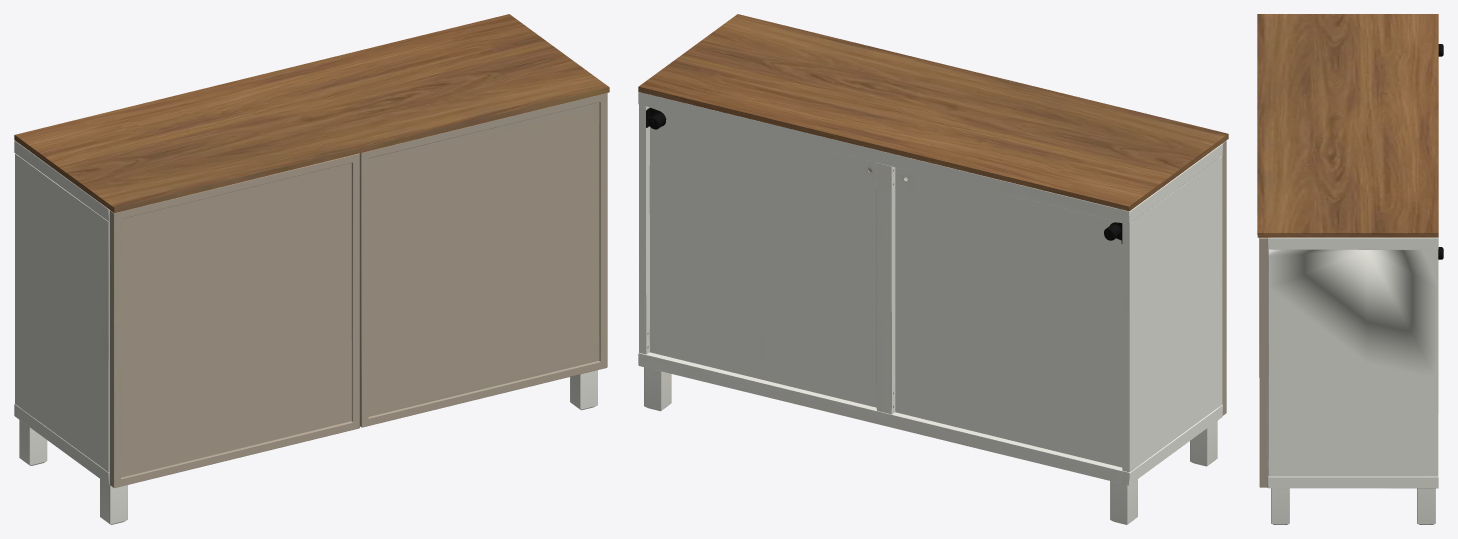
Rendered from 23 - BESTÅ Storage combination with doors - whiteKrukmakare beige 120x42x75 cm.glb.
3 views of the same model, side by side, from view 1: azimuth 30°, elevation 25°; view 2: azimuth 150°, elevation 25°; view 3: azimuth 270°, elevation 25° (orthographic). The views are drawn at different scales.
Visible parts, largest first — view 1: 89598067_storage_combination_with_doors.004, 89598067_storage_combination_with_doors.003, 89598067_storage_combination_with_doors.001, 89598067_storage_combination_with_doors.007, 89598067_storage_combination_with_doors.006; view 2: 89598067_storage_combination_with_doors.007, 89598067_storage_combination_with_doors.001, 89598067_storage_combination_with_doors.006, 89598067_storage_combination_with_doors.004; view 3: 89598067_storage_combination_with_doors.007, 89598067_storage_combination_with_doors.001, 89598067_storage_combination_with_doors.003, 89598067_storage_combination_with_doors.006.
Part boxes in pixels (x1,y1,x2,y2): 89598067_storage_combination_with_doors.004: (109,153,359,488); 89598067_storage_combination_with_doors.003: (360,93,607,427); 89598067_storage_combination_with_doors.001: (14,14,609,212); 89598067_storage_combination_with_doors.007: (14,140,109,485); 89598067_storage_combination_with_doors.006: (19,370,597,524); 89598067_storage_combination_with_doors.007: (638,92,1222,485); 89598067_storage_combination_with_doors.001: (638,14,1228,211); 89598067_storage_combination_with_doors.006: (644,367,1217,524); 89598067_storage_combination_with_doors.004: (1222,141,1226,415); 89598067_storage_combination_with_doors.007: (1267,237,1438,488); 89598067_storage_combination_with_doors.001: (1257,14,1438,237); 89598067_storage_combination_with_doors.003: (1259,237,1267,487); 89598067_storage_combination_with_doors.006: (1271,488,1435,524).
Size of the model in its own units: 1.2 by 0.7522 by 0.4307.
1 material, 1 textured.
